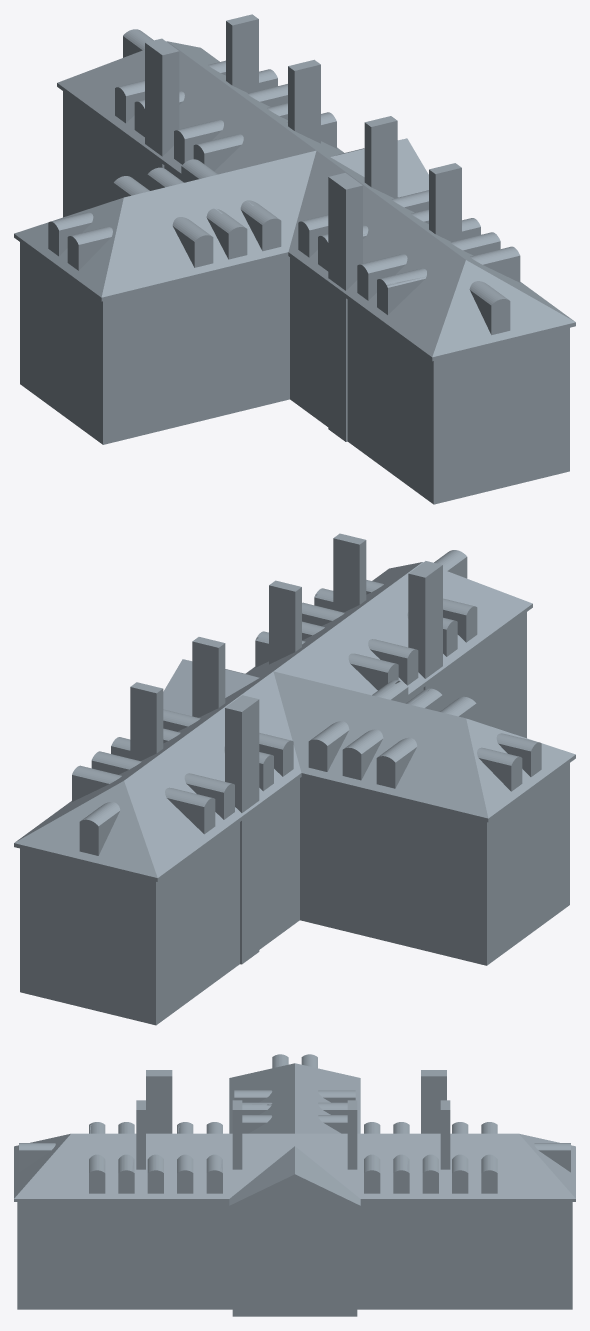
File: clark.glb
3 renders of one model, top to bottom at view 1: azimuth 30°, elevation 25°; view 2: azimuth 150°, elevation 25°; view 3: azimuth 270°, elevation 25°, orthographic. The views are drawn at different scales.
Parts seen in each view (by area): view 1: clark.002; view 2: clark.002; view 3: clark.002.
Boxes of the visible parts, <box> form: clark.002: <box>14,14,575,504</box>; clark.002: <box>14,533,575,1025</box>; clark.002: <box>14,1054,575,1316</box>.
Bounding box in the file's own units: 1161 × 801 × 2158.
